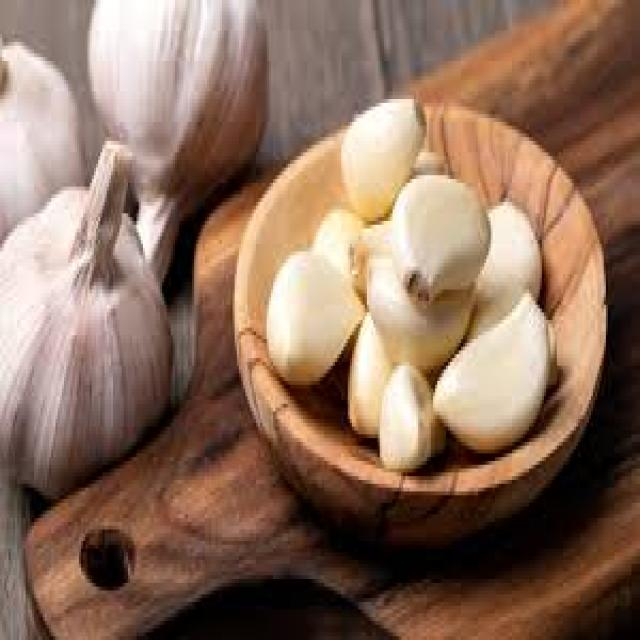Garlic: (269, 81, 566, 471), (0, 131, 183, 491), (73, 0, 278, 190), (0, 8, 88, 213)
